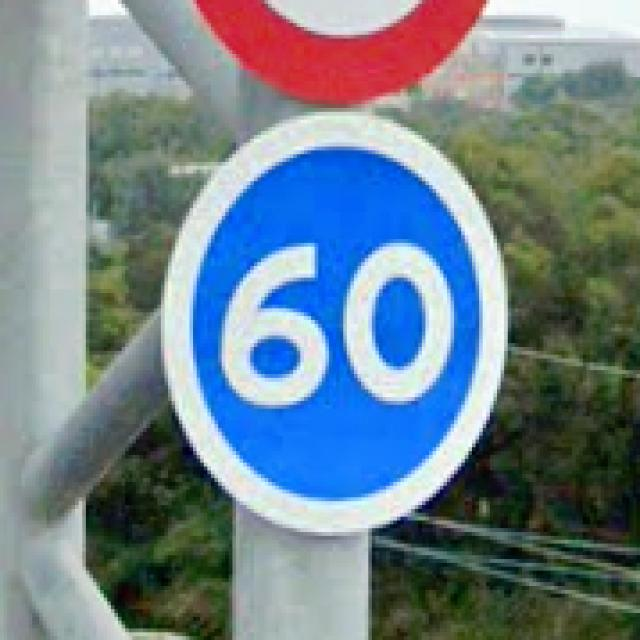min60: (153, 108, 508, 532)
